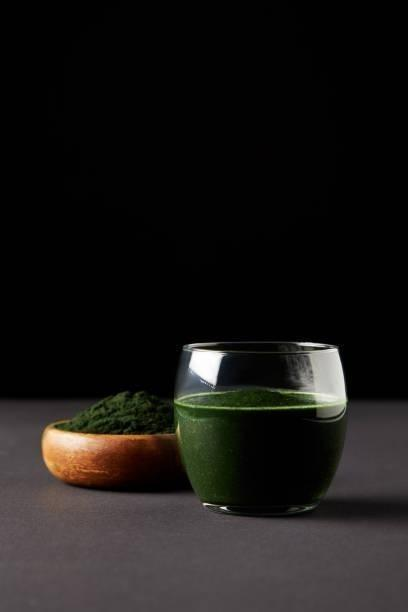glass-normal: (171, 338, 349, 519)
